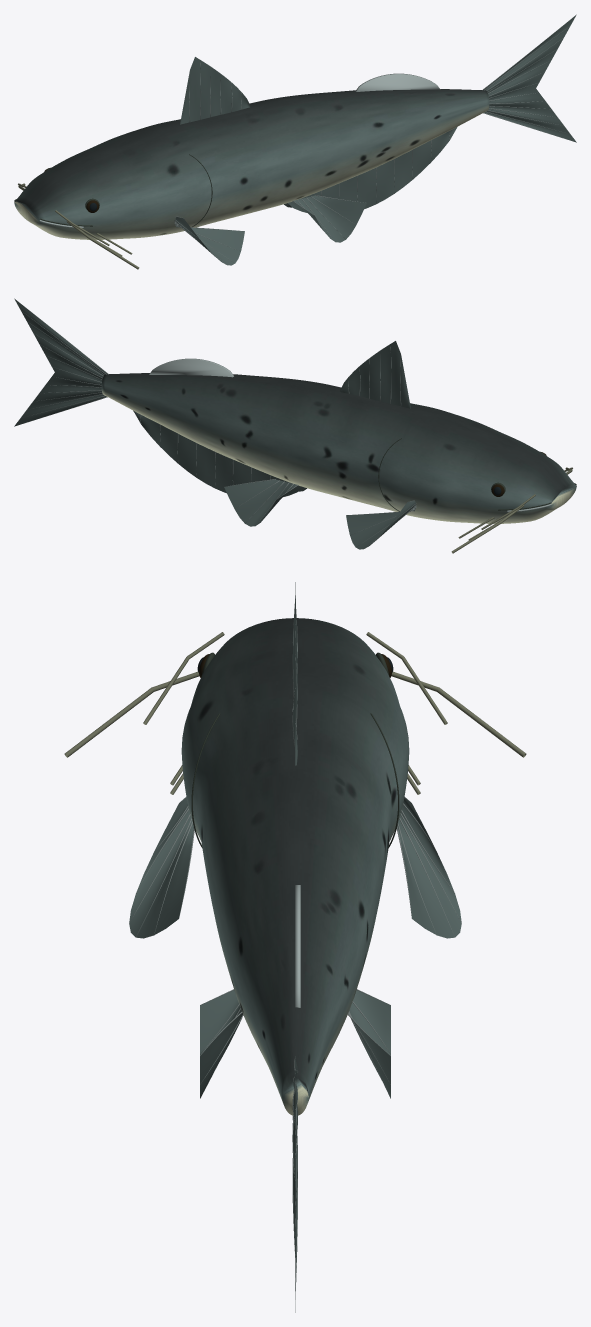
File: channel-catfish.glb
The picture shows the model from 3 angles, top to bottom: view 1: azimuth 30°, elevation 25°; view 2: azimuth 150°, elevation 25°; view 3: azimuth 270°, elevation 25°; orthographic projection. The views are drawn at different scales.
Visible parts, largest first — view 1: channel-catfish specimen.002; view 2: channel-catfish specimen.002; view 3: channel-catfish specimen.002.
Boxes of the visible parts, x1,y1,x2,y2 form: channel-catfish specimen.002: [14, 14, 576, 269]; channel-catfish specimen.002: [14, 298, 576, 553]; channel-catfish specimen.002: [64, 582, 526, 1312].
Bounding box in the file's own units: 2.42 × 0.8341 × 0.8809.
Materials: 10 (3 with a texture image).
